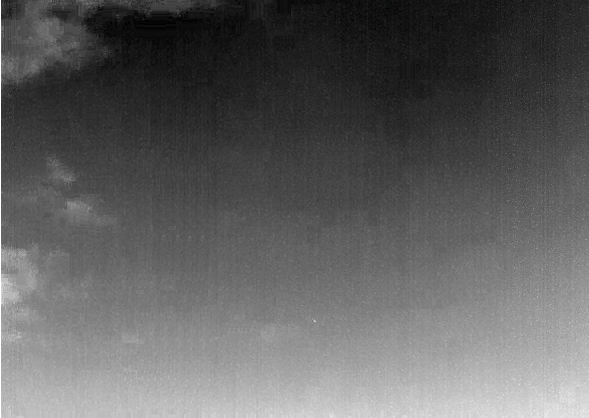dim target: (312, 318, 317, 324)
